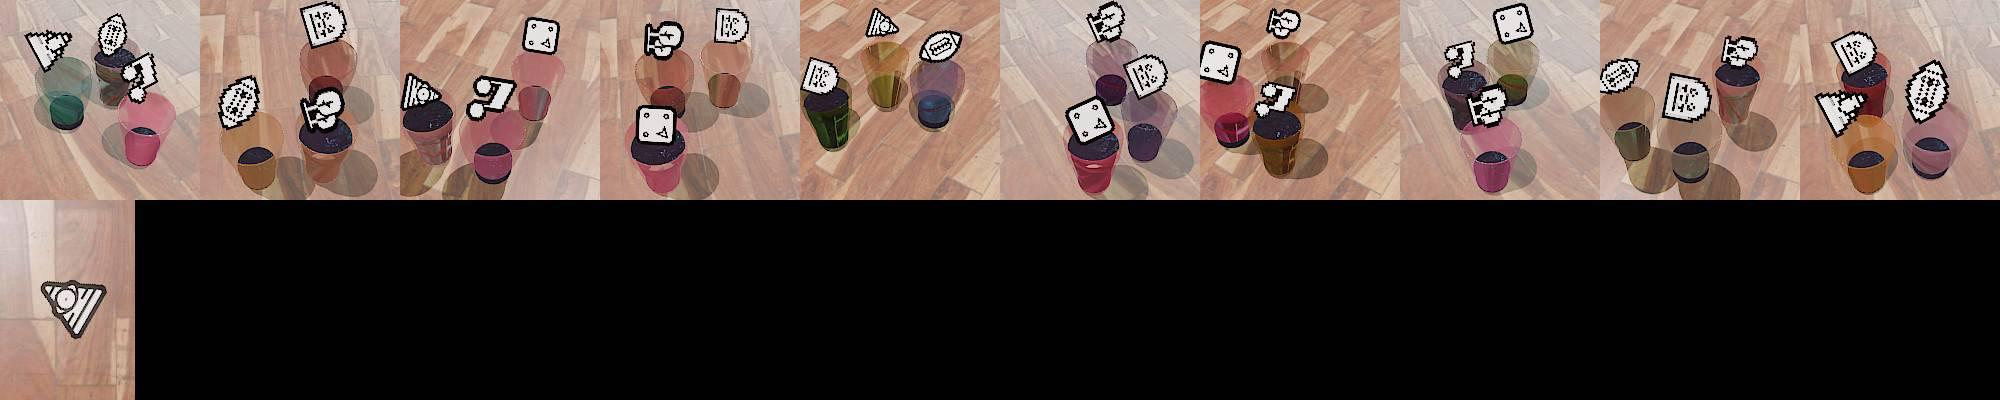icon: (40, 282, 107, 341), (1904, 61, 1949, 124), (1065, 94, 1116, 145), (1661, 73, 1712, 124), (217, 74, 261, 130), (467, 74, 519, 120), (1815, 89, 1865, 136), (298, 1, 347, 48), (23, 29, 74, 73), (1124, 54, 1170, 101), (1830, 31, 1878, 76), (121, 50, 161, 103), (300, 85, 346, 130), (1464, 84, 1508, 127), (1492, 4, 1534, 46), (1199, 41, 1240, 84), (644, 19, 685, 61), (1085, 0, 1125, 43), (402, 71, 444, 111), (635, 104, 676, 144), (522, 17, 561, 56), (1601, 57, 1642, 96), (918, 29, 963, 64), (1256, 79, 1297, 116), (801, 57, 839, 96), (97, 13, 129, 56), (1721, 34, 1759, 69), (713, 8, 747, 46), (1444, 41, 1477, 79), (1265, 6, 1301, 41), (865, 8, 899, 38)
